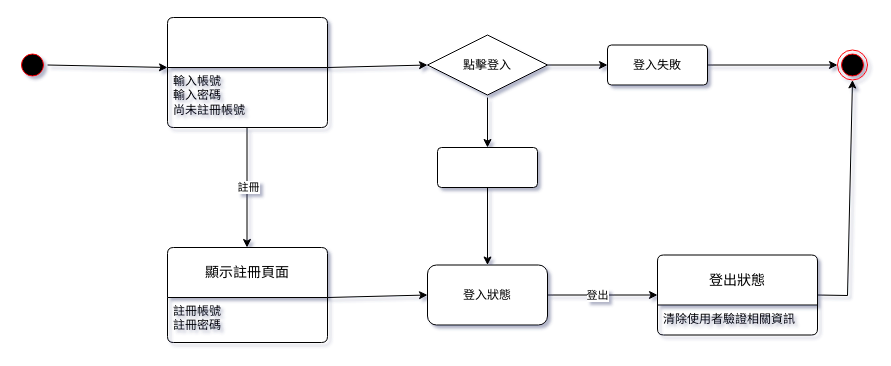
Some shapes in this 891 by 366 pixel diagram are drawn without their labels. Here are the shapes that lost their labels. From the top down, the box of each, then its label:
(166, 16, 328, 128): 顯示登入頁面
(436, 146, 538, 188): 登入成功
